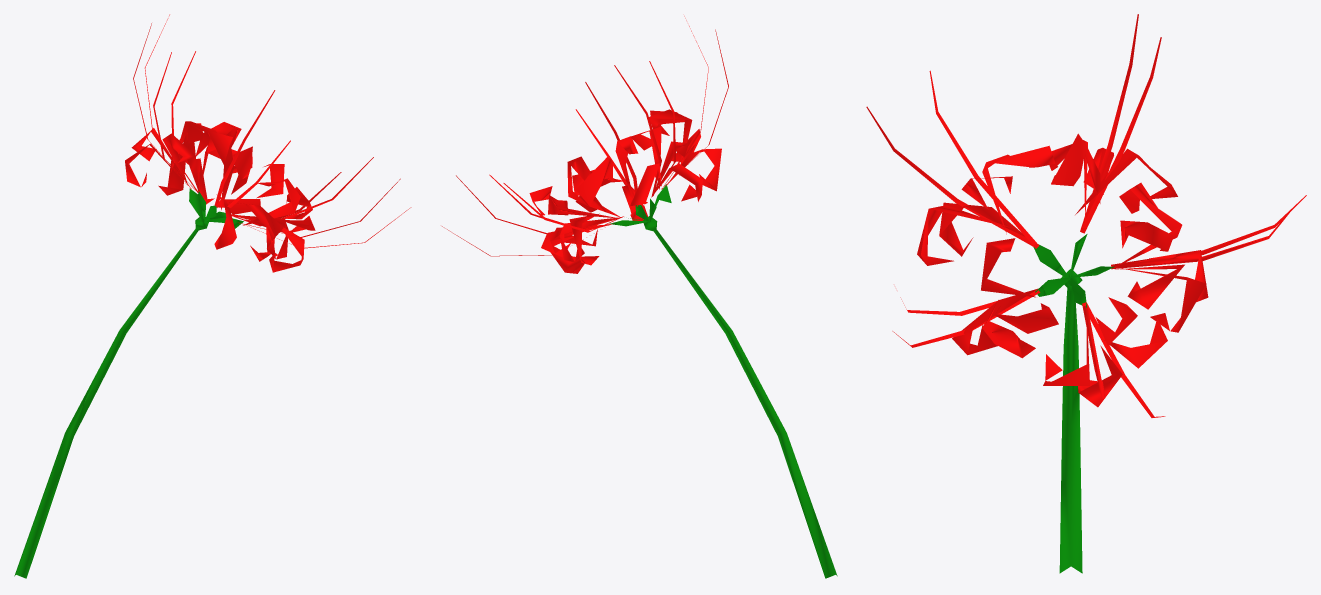
File: ps2_save-icons_higanbana.glb
The picture shows the model from 3 angles, left to right: view 1: azimuth 30°, elevation 25°; view 2: azimuth 150°, elevation 25°; view 3: azimuth 270°, elevation 25°; orthographic projection. The views are drawn at different scales.
Parts seen in each view (by area): view 1: higan.ico; view 2: higan.ico; view 3: higan.ico.
Boxes of the visible parts, <box> form: higan.ico: <box>14,14,411,578</box>; higan.ico: <box>442,16,837,578</box>; higan.ico: <box>866,14,1306,573</box>.
Bounding box in the file's own units: 3.1 × 3.99 × 2.4.
1 material, 1 textured.
